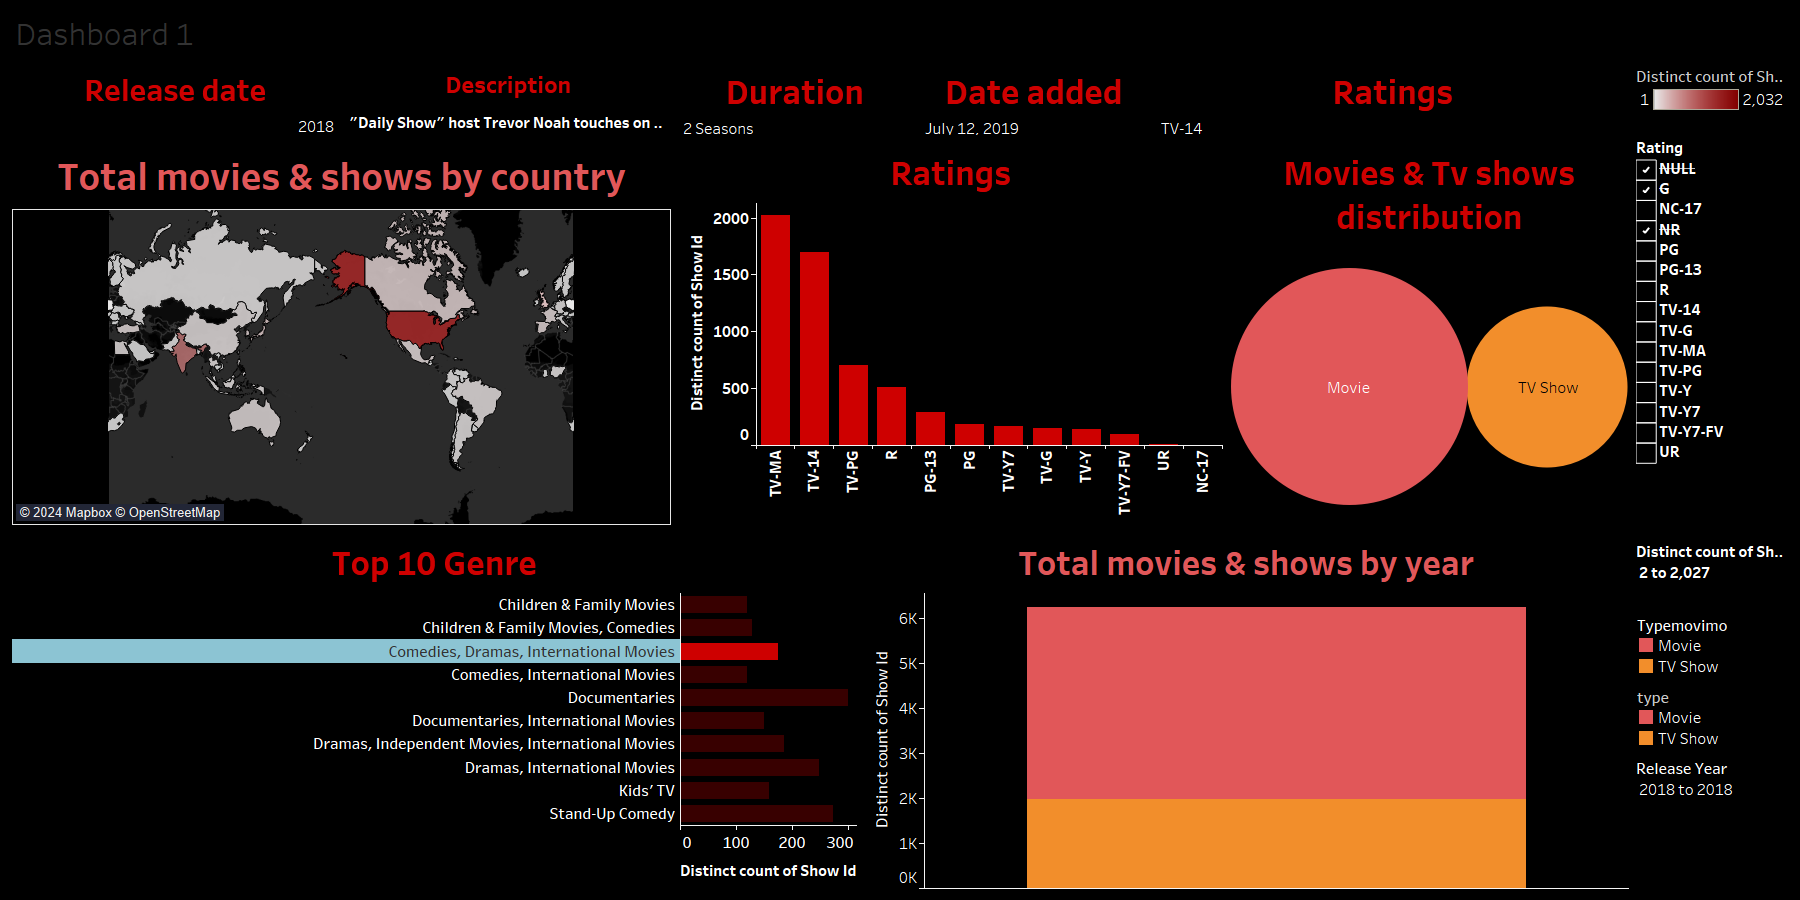

Layout of this report page (visuals, bound fields, positions):
{"tool":"tableau","page":{"name":"Dashboard 1","canvas":[1800,900],"ordinal":0},"visuals":[{"type":"title","box":[8,8,1784,50]},{"type":"worksheet","title":"Release date","mark":"Automatic","box":[8,58,333.5,82.1]},{"type":"worksheet","title":"Description","mark":"Automatic","box":[341.5,58,333.5,82.1]},{"type":"worksheet","title":" Duration","mark":"Automatic","box":[675,58,239.3,81.1]},{"type":"worksheet","title":"Date added","mark":"Automatic","box":[914.3,58,239.2,81.1]},{"type":"worksheet","title":"Ratingss","mark":"Automatic","box":[1153.5,58,478.5,81.1]},{"type":"legend","title":"Total movie & shows by country","param":"[federated.0obg0e81ewwih71e4490t0audv0s].[ctd:show_id:qk]","box":[1632,58,160,73]},{"type":"filter","title":"Ratings","param":"[federated.0obg0e81ewwih71e4490t0audv0s].[none:rating:nk]","box":[1632,131,160,404]},{"type":"worksheet","title":"Ratings","mark":"Automatic","rows":["show_id"],"cols":["rating"],"box":[675,139.1,551,389.6]},{"type":"worksheet","title":"Movies &Tv distribution","mark":"Circle","box":[1226,139.1,406,389.6]},{"type":"worksheet","title":"Total movie & shows by country","mark":"Multipolygon","box":[8,140.1,667,388.7]},{"type":"worksheet","title":"Top 10 genre","mark":"Automatic","rows":["listed_in"],"cols":["show_id"],"box":[8,528.8,852,363.2]},{"type":"worksheet","title":"Total movies & shows by year","mark":"Bar","rows":["show_id"],"box":[860,528.8,772,363.2]},{"type":"filter","title":"Ratings","param":"[federated.0obg0e81ewwih71e4490t0audv0s].[ctd:show_id:qk]","box":[1632,535,160,73]},{"type":"legend","title":"Total movies & shows by year","param":"[federated.11j1vcm1egeb8v12hommn1mbqrzc].[none:type:nk]","box":[1632,608,160,72]},{"type":"legend","title":"Movies &Tv distribution","param":"[federated.0obg0e81ewwih71e4490t0audv0s].[none:type:nk]","box":[1632,680,160,72]},{"type":"filter","title":"Release date","param":"[federated.0obg0e81ewwih71e4490t0audv0s].[none:release_year:qk]","box":[1632,752,160,73]}]}

Visuals, with their boxes in screenshot pixels (x1, y1, x2, y2), scaled from the page's 1800x900 canvas onto the 1800x900 screenshot:
title: BBox(8, 8, 1792, 58)
"Release date" worksheet: BBox(8, 58, 342, 140)
"Description" worksheet: BBox(342, 58, 675, 140)
" Duration" worksheet: BBox(675, 58, 914, 139)
"Date added" worksheet: BBox(914, 58, 1154, 139)
"Ratingss" worksheet: BBox(1154, 58, 1632, 139)
"Total movie & shows by country" legend: BBox(1632, 58, 1792, 131)
"Ratings" filter: BBox(1632, 131, 1792, 535)
"Ratings" worksheet: BBox(675, 139, 1226, 529)
"Movies &Tv distribution" worksheet (Circle marks): BBox(1226, 139, 1632, 529)
"Total movie & shows by country" worksheet (Multipolygon marks): BBox(8, 140, 675, 529)
"Top 10 genre" worksheet: BBox(8, 529, 860, 892)
"Total movies & shows by year" worksheet (Bar marks): BBox(860, 529, 1632, 892)
"Ratings" filter: BBox(1632, 535, 1792, 608)
"Total movies & shows by year" legend: BBox(1632, 608, 1792, 680)
"Movies &Tv distribution" legend: BBox(1632, 680, 1792, 752)
"Release date" filter: BBox(1632, 752, 1792, 825)
